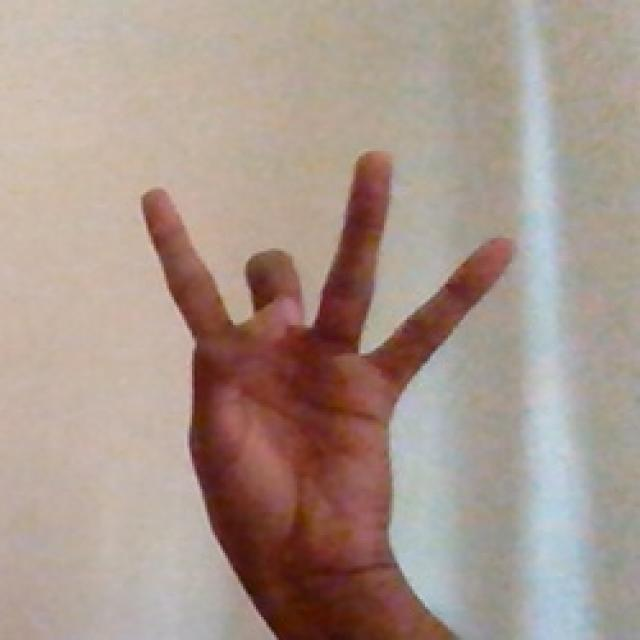Numeric-8: (128, 145, 506, 618)
